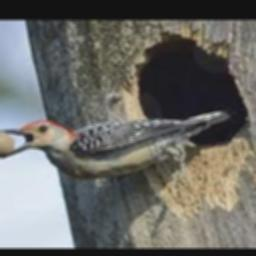Woodpecker: (0, 109, 230, 179)
